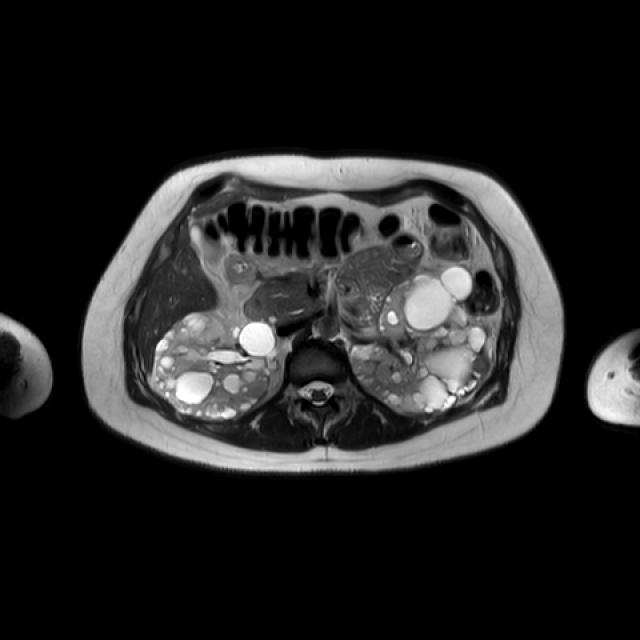sag: (151, 307, 276, 420)
sol: (351, 263, 492, 414)
